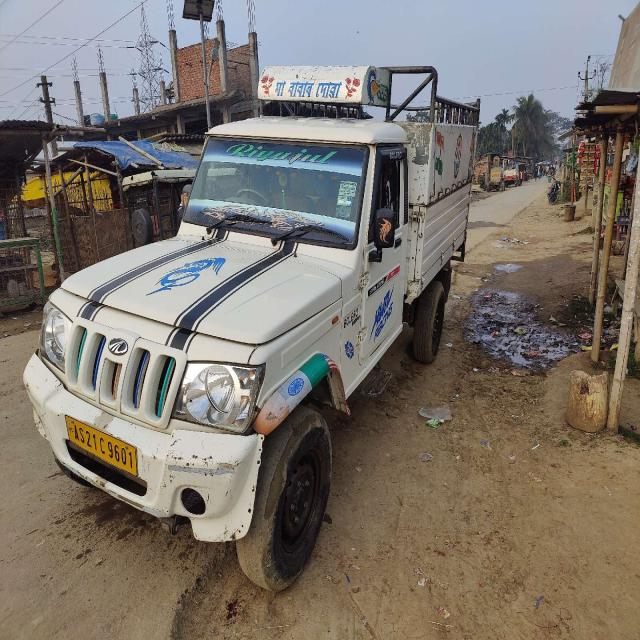light_vehicle: (22, 115, 472, 534)
